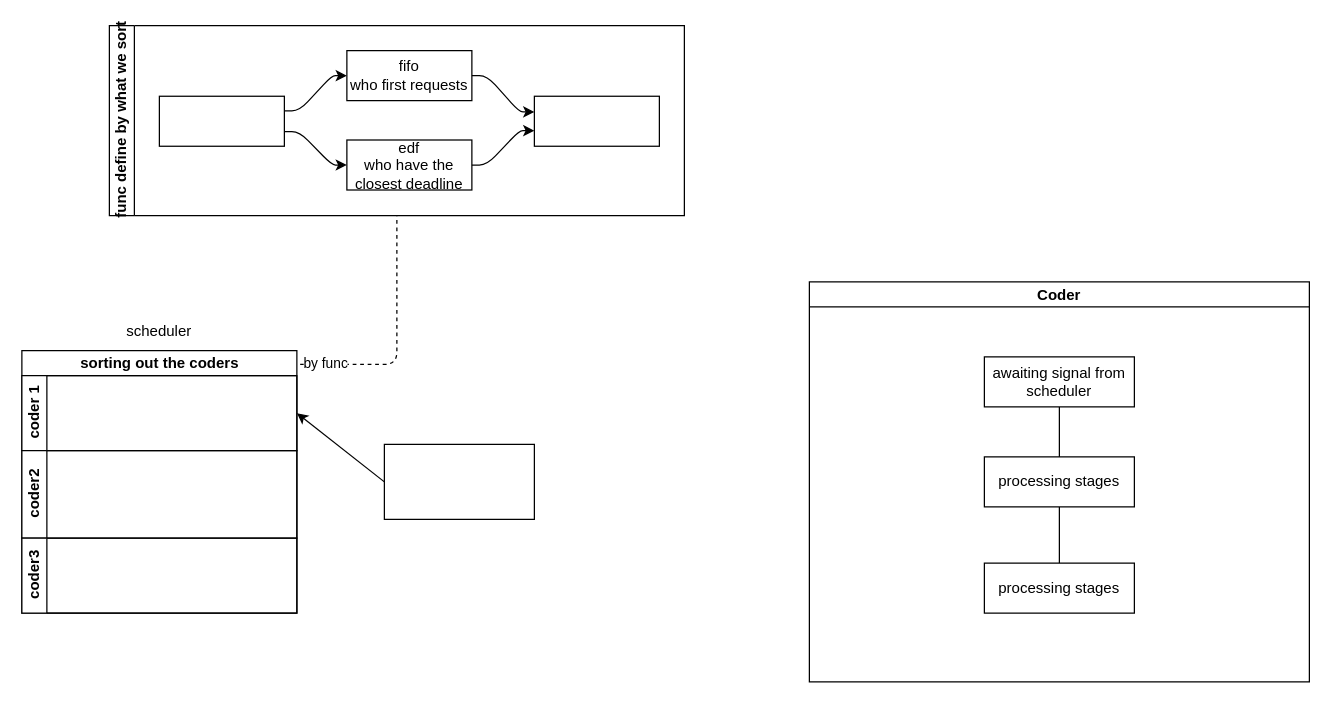
The diagram is 1331 pixels wide and 704 high, and some of its shapes have lost their labels. The shapes that lost their labels are listed below. From the top down, each one's centre as x and y in pixels, then its label:
the point at 221,120: we experssing address of needed func
the point at 596,120: sorted list
the point at 458,481: picking first one in list and resort again
